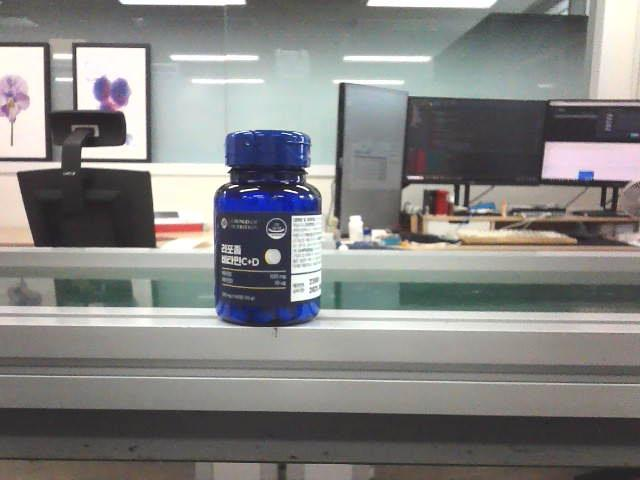labeled: (212, 125, 324, 328)
